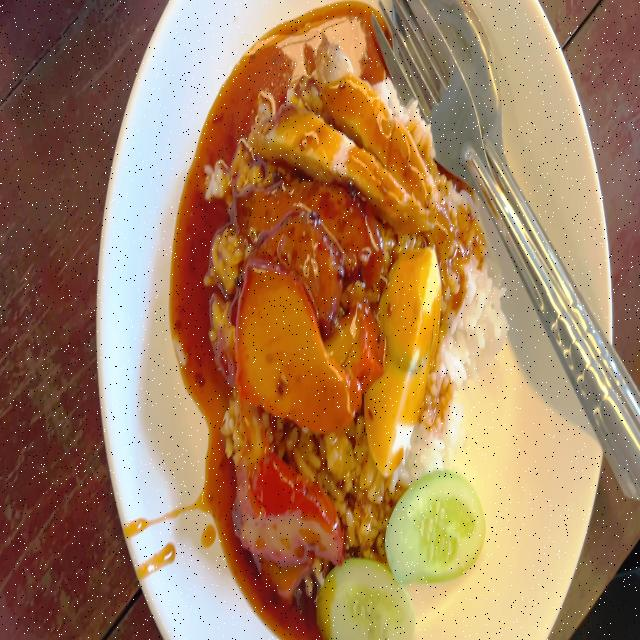boiled_egg: (366, 248, 441, 473)
chainese_sausage: (251, 172, 382, 296)
crispy_pork: (262, 59, 441, 228)
cucumber: (384, 471, 490, 587), (323, 558, 410, 638)
red_pork: (240, 267, 351, 433), (226, 438, 338, 558)
red_pork_and_crispy_pork: (212, 34, 501, 640)
